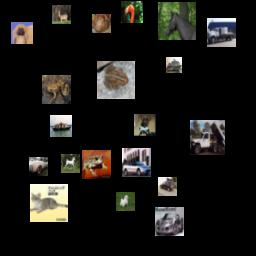automobile: (155, 207, 184, 236), (122, 148, 151, 177), (158, 177, 177, 196), (29, 157, 48, 176)
bird: (121, 1, 143, 23)
cat: (30, 184, 68, 222), (92, 14, 111, 33)
deer: (52, 5, 71, 24)
dog: (11, 22, 33, 44), (134, 114, 156, 136), (116, 192, 135, 211)
frog: (97, 61, 135, 99), (42, 75, 71, 104), (82, 150, 111, 179)
ship: (50, 115, 72, 137), (166, 57, 182, 73)
truck: (190, 120, 225, 155), (207, 18, 236, 47)
